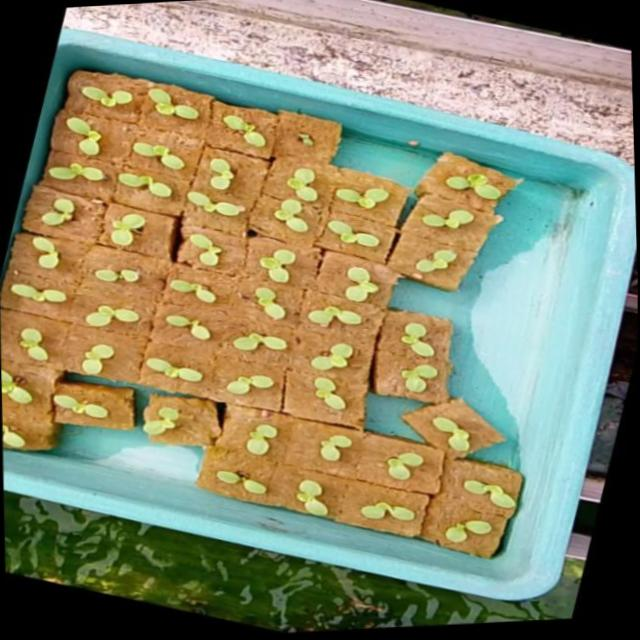Baby: (434, 512, 503, 550), (7, 326, 65, 371), (420, 407, 474, 455), (440, 478, 494, 517), (85, 256, 149, 286), (175, 231, 226, 267), (310, 301, 362, 336), (319, 220, 376, 250), (143, 86, 195, 118), (310, 344, 369, 372), (29, 187, 72, 225), (40, 156, 104, 181), (361, 501, 425, 526), (442, 175, 498, 203), (182, 190, 240, 216), (218, 114, 262, 147), (113, 172, 168, 197), (401, 365, 437, 403), (161, 315, 210, 342), (341, 267, 376, 303), (63, 116, 96, 154), (255, 250, 291, 284), (105, 212, 142, 245), (83, 306, 138, 328), (295, 480, 327, 517), (168, 279, 215, 304), (271, 199, 305, 233), (78, 85, 130, 107), (252, 288, 285, 321), (314, 378, 345, 413), (8, 285, 64, 304), (383, 452, 420, 480), (231, 333, 285, 352), (283, 170, 314, 203), (335, 186, 386, 206), (418, 212, 470, 231), (412, 251, 453, 275), (79, 345, 111, 375), (244, 426, 276, 456), (399, 323, 433, 351), (30, 236, 58, 268), (129, 141, 171, 162), (318, 436, 350, 463), (205, 156, 230, 189), (227, 376, 263, 395)
